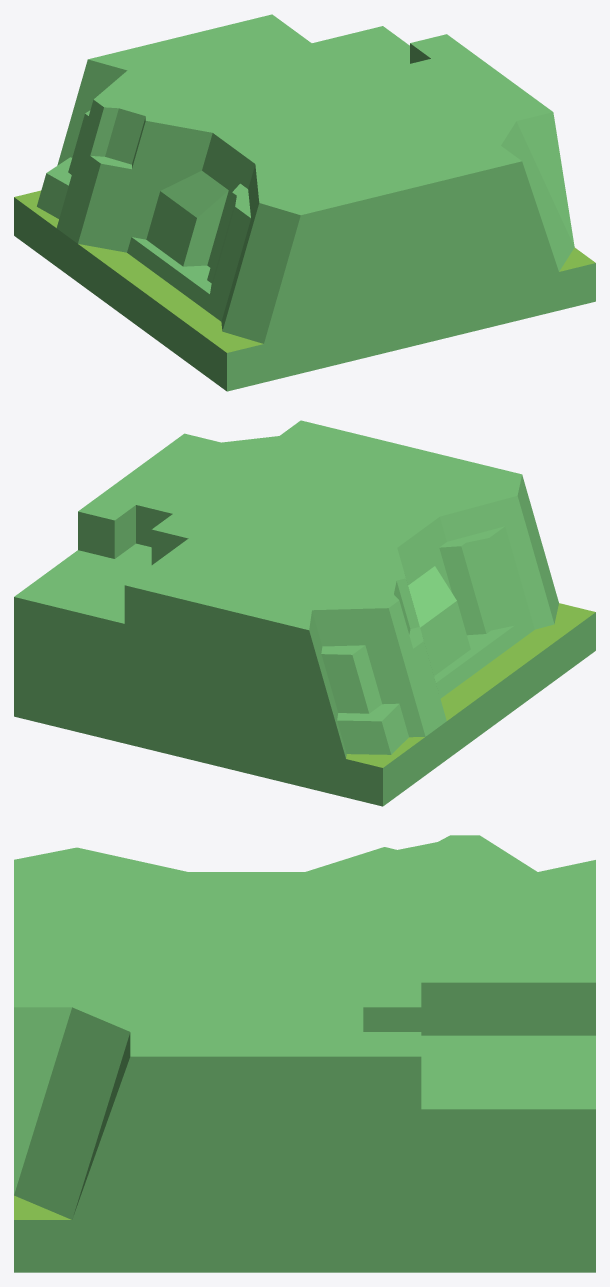
File: x_zem_1_11_1_rmstrd.fbx
3 renders of one model, top to bottom at view 1: azimuth 30°, elevation 25°; view 2: azimuth 150°, elevation 25°; view 3: azimuth 270°, elevation 25°, orthographic. The views are drawn at different scales.
Visible parts, largest first — view 1: x_zem_1_11_1_rmstrd1; view 2: x_zem_1_11_1_rmstrd1; view 3: x_zem_1_11_1_rmstrd1.
Part boxes in pixels (bbox=[...]): x_zem_1_11_1_rmstrd1: bbox=[14, 14, 595, 391]; x_zem_1_11_1_rmstrd1: bbox=[14, 420, 595, 806]; x_zem_1_11_1_rmstrd1: bbox=[14, 835, 595, 1272].
Bounding box in the file's own units: 10 × 4.1 × 10.
